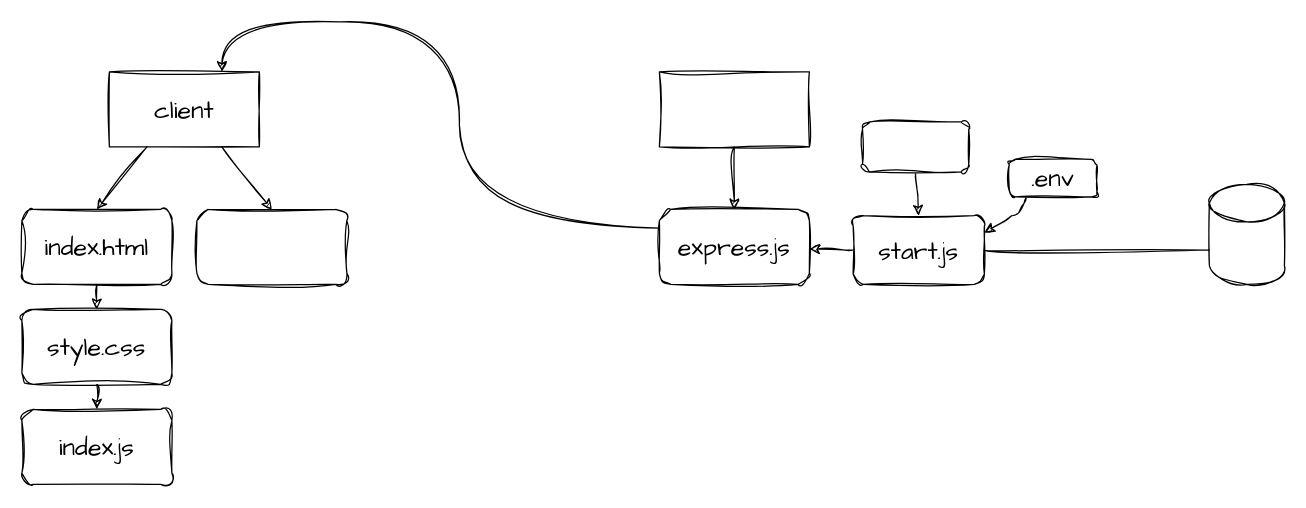
Some shapes in this 1306 by 508 pixel diagram are drawn without their labels. The shapes that lost their labels are listed below. From the top down, each one's centre as x and y in pixels, then its label:
[733,109]: backend
[915,146]: app.js
[271,246]: fetch.js
[1246,233]: db
